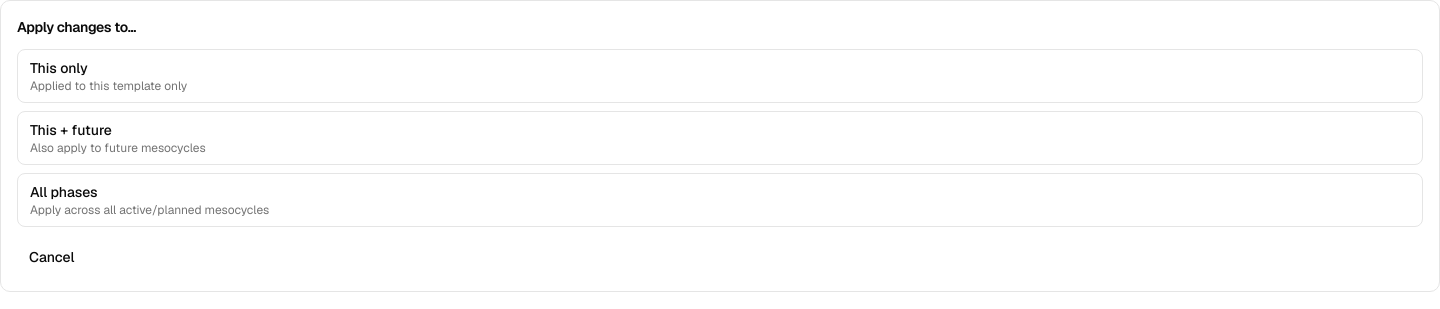
Test: SlotCascadeScopeSelector › slot param edit cascade › shows preview of affected templates after selecting scope
Click the text "All phases" at (64, 192), box x1=30 y1=182 x2=98 y2=202
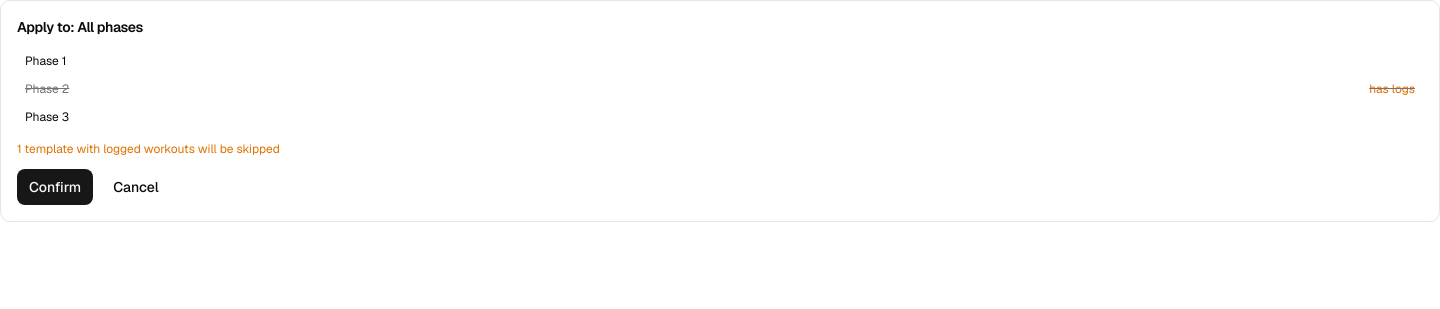
Result: the text "Phase 1" is shown at x1=25 y1=53 x2=66 y2=69
Result: the text "Phase 2" is shown at x1=25 y1=81 x2=69 y2=97
Result: the text "Phase 3" is shown at x1=25 y1=109 x2=69 y2=125
